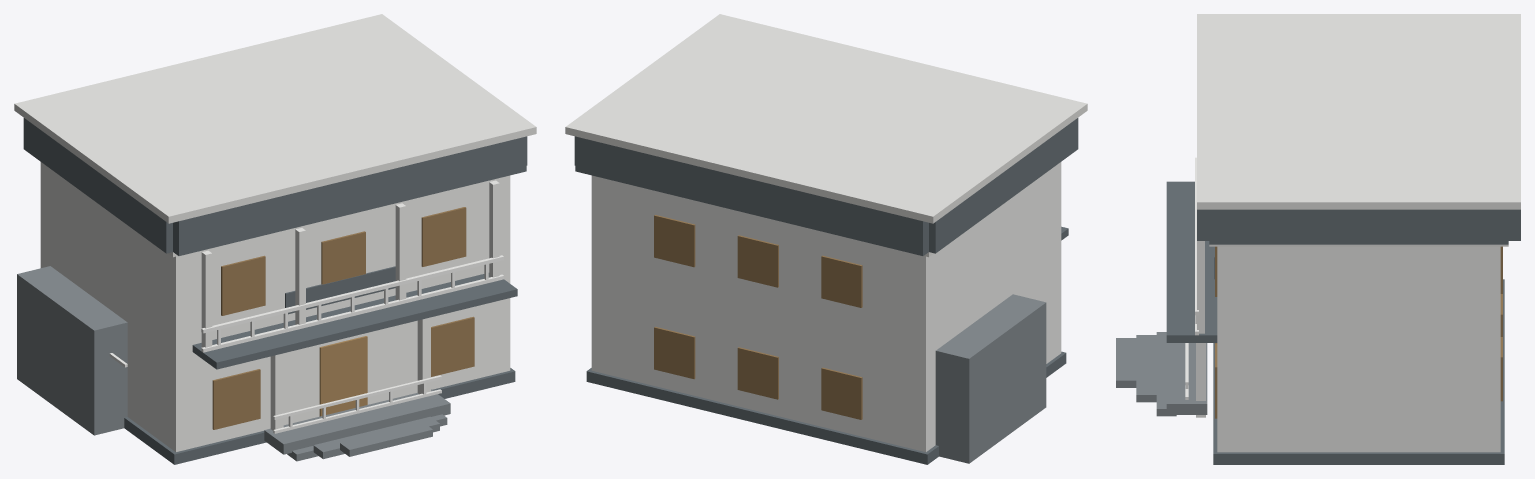
File: Betherl villa.glb
The picture shows the model from 3 angles, left to right: view 1: azimuth 30°, elevation 25°; view 2: azimuth 150°, elevation 25°; view 3: azimuth 270°, elevation 25°; orthographic projection. The views are drawn at different scales.
Parts seen in each view (by area): view 1: RoofOverhang, FirstFloor, GroundFloor, Stair_Body, Parapet_F, Balcony_FF, Parapet_L, Porch_GF, Door_GF, Plinth, Win_GF_F_-3.2, Win_FF_F_3.0 (+16 smaller); view 2: RoofOverhang, FirstFloor, GroundFloor, Stair_Body, Parapet_B, Plinth, Parapet_L, Win_GF_R_-2.5, Win_GF_R_0, Win_GF_R_2.5, Win_FF_R_0, Win_FF_R_-2.5 (+1 smaller); view 3: RoofOverhang, FirstFloor, GroundFloor, Parapet_R, Balcony_FF, Plinth, Porch_GF, Step_1, Step_2, Step_0, RoofSlab, Col_FF_4.3 (+3 smaller).
Boxes of the visible parts, box(x1,y1,x2,y2) form: RoofOverhang: box(14, 14, 536, 223); FirstFloor: box(40, 162, 510, 357); GroundFloor: box(40, 259, 510, 451); Stair_Body: box(17, 266, 127, 435); Parapet_F: box(173, 136, 526, 255); Balcony_FF: box(192, 273, 517, 369); Parapet_L: box(23, 118, 172, 253); Porch_GF: box(264, 389, 450, 454); Door_GF: box(319, 336, 367, 416); Plinth: box(124, 368, 515, 464); Win_GF_F_-3.2: box(212, 369, 260, 429); Win_FF_F_3.0: box(421, 207, 466, 266); RoofOverhang: box(565, 14, 1087, 223); FirstFloor: box(591, 162, 1061, 357); GroundFloor: box(591, 259, 1061, 451); Stair_Body: box(935, 294, 1046, 463); Parapet_B: box(575, 136, 928, 255); Plinth: box(586, 351, 1066, 464); Parapet_L: box(929, 118, 1078, 253); Win_GF_R_-2.5: box(821, 367, 862, 419); Win_GF_R_0: box(737, 347, 778, 399); Win_GF_R_2.5: box(654, 326, 695, 379); Win_FF_R_0: box(737, 235, 778, 287); Win_FF_R_-2.5: box(821, 255, 862, 307); RoofOverhang: box(1197, 14, 1520, 209); FirstFloor: box(1217, 246, 1500, 353); GroundFloor: box(1217, 353, 1500, 452); Parapet_R: box(1209, 209, 1508, 244); Balcony_FF: box(1166, 181, 1217, 342); Plinth: box(1213, 279, 1504, 464); Porch_GF: box(1166, 343, 1207, 414); Step_1: box(1136, 335, 1156, 402); Step_2: box(1116, 338, 1136, 387); Step_0: box(1156, 332, 1176, 416); RoofSlab: box(1209, 244, 1508, 246); Col_FF_4.3: box(1197, 241, 1204, 333).
Bounding box in the file's own units: 11.5 × 7.35 × 10.
